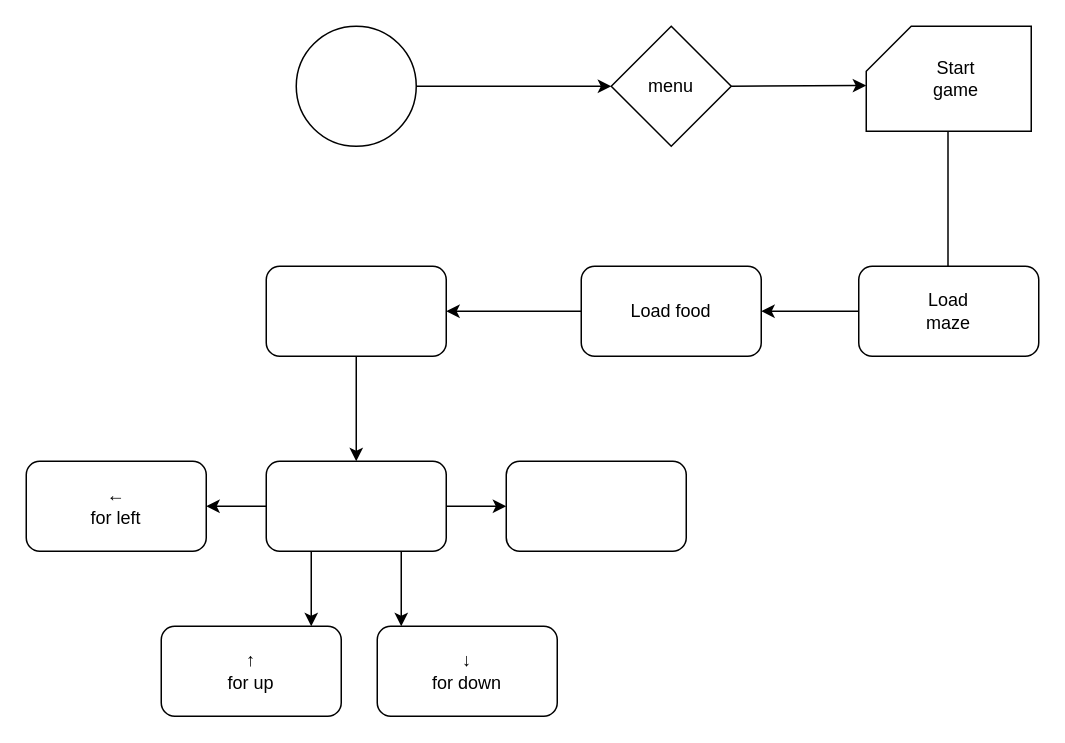
This 1065x743 diagram has some shape labels left out. Here are the shapes that lost their labels. From the top down, the centre of each, then its label:
point (355, 85): Start
point (355, 310): Load Pacman
point (355, 505): press arrow for movement
